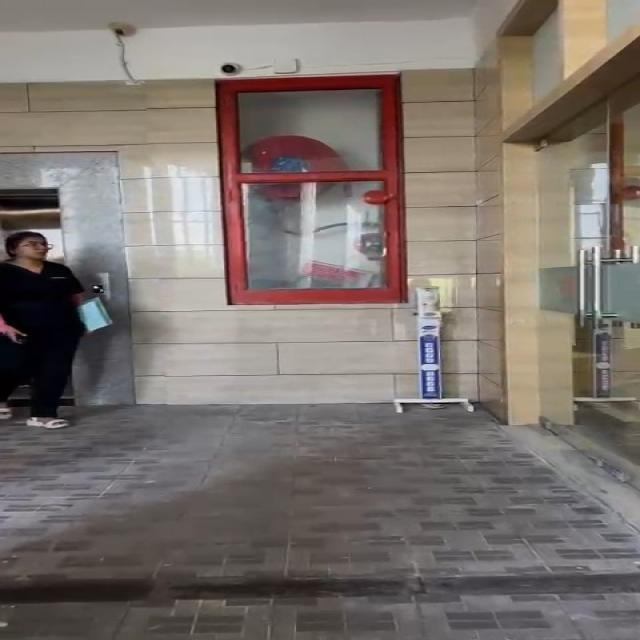door: (520, 128, 640, 435)
floor: (0, 414, 640, 640)
moving_object: (0, 211, 108, 424)
wall: (84, 102, 242, 404), (390, 74, 530, 272)
